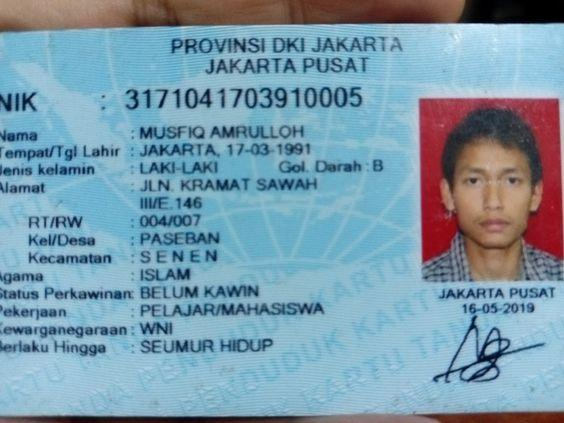ID-card: (0, 29, 564, 417)
